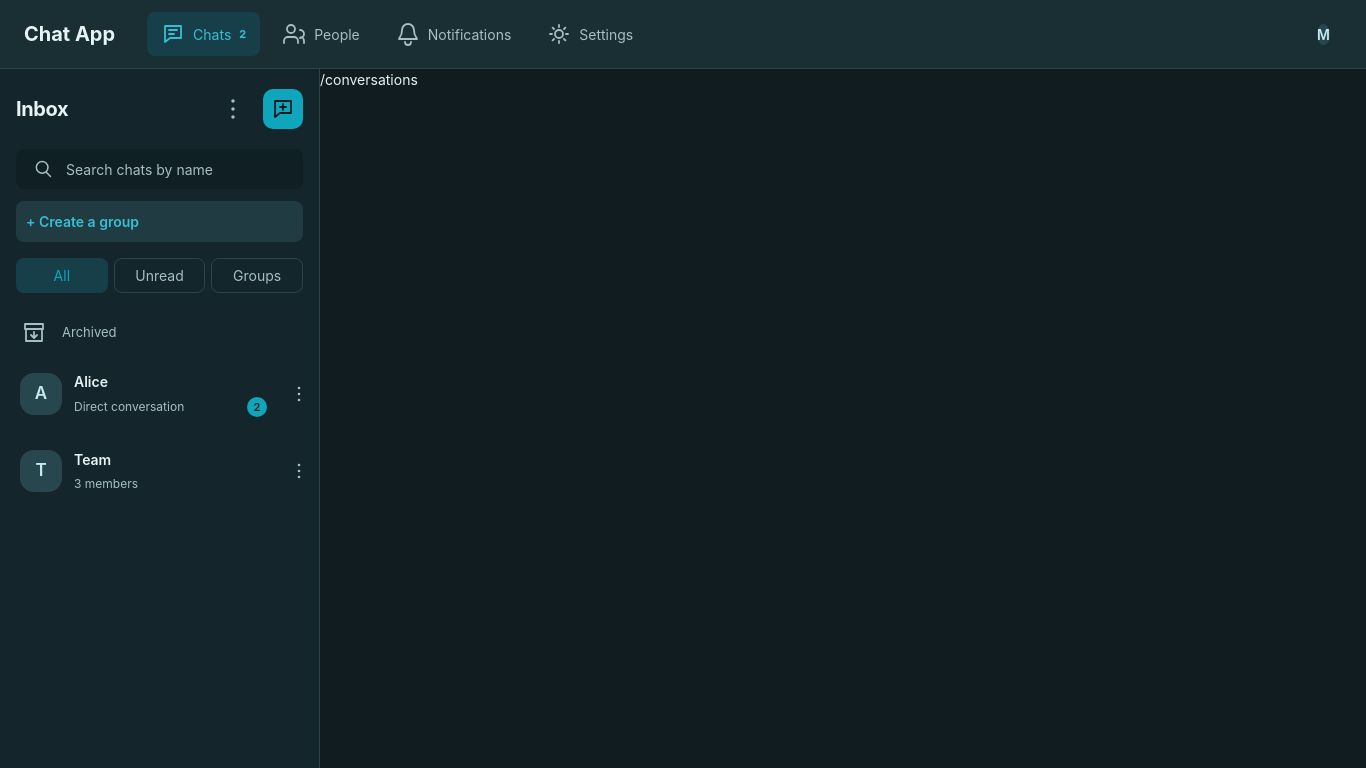
it: shared conversation workspace › filters unread/groups and loads archived chats
Check: the text "Alice" is shown, box [74,371,108,392]
Click the button "Unread": (160, 276) [114,258,205,293]
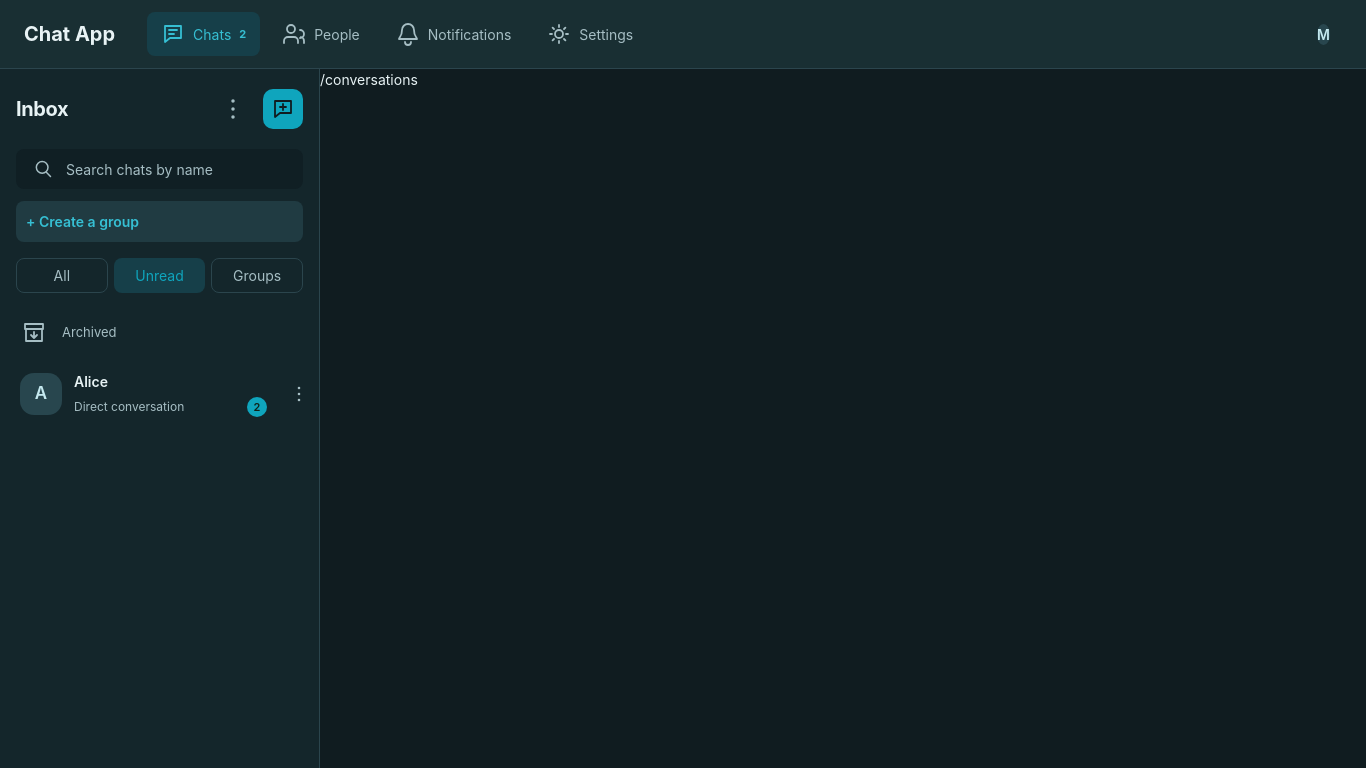
Check: the text "Alice" is shown, box [74,371,108,392]
Check: the button "Team" is gone
Click the button "Groups": (257, 276) [211,258,303,293]
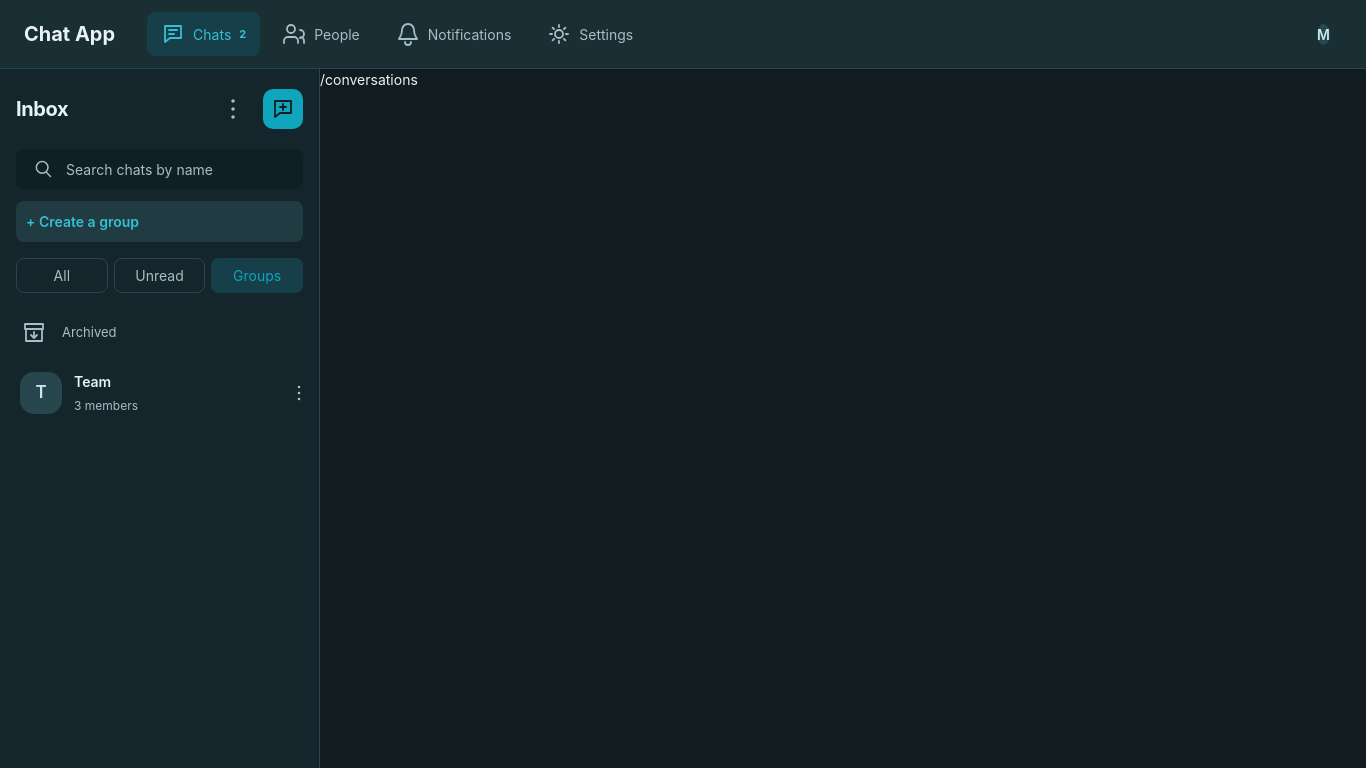
Check: the text "Team" is shown, box [74,371,111,392]
Check: the button "Alice" is gone
Click the button "Archived": (89, 332) [10,309,309,357]
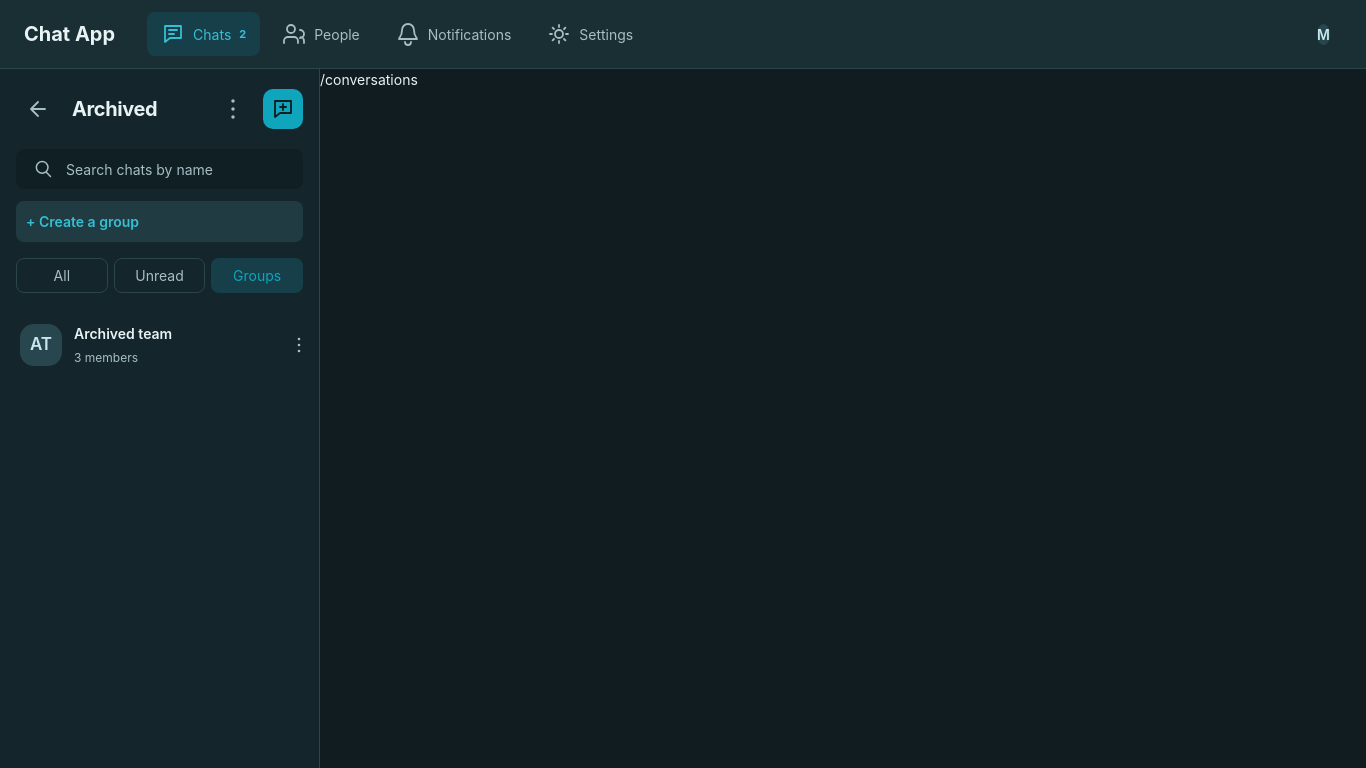
Check: the text "Archived team" is shown, box [74,323,172,344]
